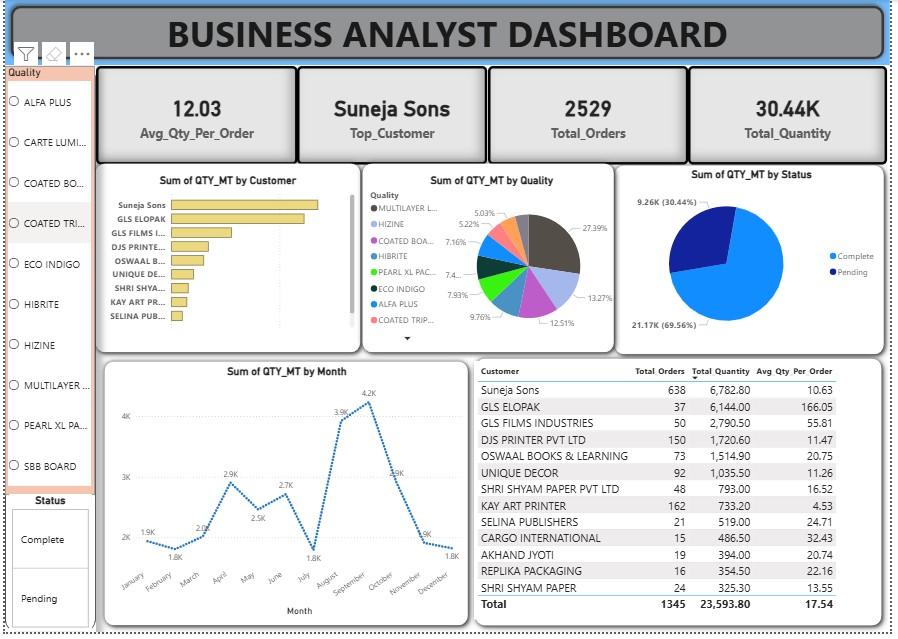

Layout of this report page (visuals, bound fields, positions):
{"tool":"powerbi","page":{"name":"#Dashboard","canvas":[1400,1000],"ordinal":0},"visuals":[{"type":"shape","box":[0,0,1400,102.8],"z":0},{"type":"card","fields":{"Values":["new_file suneja_sons.Avg_Qty_Per_Order"]},"box":[143.5,104.6,319,155.9],"z":1000},{"type":"card","fields":{"Values":["new_file suneja_sons.Top_Customer"]},"box":[462.5,104.6,301.3,155.9],"z":2000},{"type":"card","fields":{"Values":["new_file suneja_sons.Total_Orders"]},"box":[763.8,104.6,317.2,155.9],"z":3000},{"type":"card","fields":{"Values":["new_file suneja_sons.Total_Quantity"]},"box":[1081,104.6,315.4,155.9],"z":4000},{"type":"shape","box":[132.9,248.1,439.5,319],"z":5000},{"type":"clusteredBarChart","fields":{"Category":["new_file suneja_sons.Customer"],"Y":["Sum(new_file suneja_sons.QTY_MT)"]},"box":[147.1,274.7,411.1,272.9],"z":6000},{"type":"shape","box":[953.4,251.6,446.6,319],"z":7000},{"type":"shape","box":[554.7,248.1,418.2,319],"z":8000},{"type":"pieChart","fields":{"Category":["new_file suneja_sons.Quality"],"Y":["Sum(new_file suneja_sons.QTY_MT)"]},"box":[572.4,274.7,395.2,272.9],"z":9000},{"type":"pieChart","fields":{"Category":["new_file suneja_sons.Status"],"Y":["Sum(new_file suneja_sons.QTY_MT)"]},"box":[972.9,265.8,416.5,283.5],"z":10000},{"type":"shape","box":[0,104.6,143.5,894.9],"z":11000},{"type":"listSlicer","fields":{"Values":["new_file suneja_sons.Quality"]},"box":[0,104.6,141.8,678.7],"z":12000},{"type":"advancedSlicerVisual","fields":{"Values":["new_file suneja_sons.Status"]},"box":[7.1,781.5,131.1,218],"z":13000},{"type":"shape","box":[147.1,561.8,595.4,437.7],"z":14000},{"type":"lineChart","fields":{"Category":["new_file suneja_sons.Po_Placing_Date.Variation.Date Hierarchy.Month"],"Y":["Sum(new_file suneja_sons.QTY_MT)"]},"box":[163,577.5,566.5,401.9],"z":15000},{"type":"shape","box":[733.7,556.5,662.8,443],"z":16000},{"type":"tableEx","fields":{"Values":["new_file suneja_sons.Customer","new_file suneja_sons.Total_Orders","new_file suneja_sons.Total_Quantity","new_file suneja_sons.Avg_Qty_Per_Order"]},"box":[742.5,570.6,630.9,409.4],"z":16001}]}

Visuals, with their boxes in screenshot pixels (x1, y1, x2, y2), scaled from the page's 1400x1000 canvas onto the 898x639 screenshot:
shape: box=[0, 0, 897, 66]
card - new_file suneja_sons.Avg_Qty_Per_Order: box=[92, 67, 297, 166]
card - new_file suneja_sons.Top_Customer: box=[297, 67, 490, 166]
card - new_file suneja_sons.Total_Orders: box=[490, 67, 693, 166]
card - new_file suneja_sons.Total_Quantity: box=[693, 67, 896, 166]
shape: box=[85, 159, 367, 362]
clusteredBarChart - new_file suneja_sons.Customer x Sum(new_file suneja_sons.QTY_MT): box=[94, 176, 358, 350]
shape: box=[612, 161, 897, 365]
shape: box=[356, 159, 624, 362]
pieChart - new_file suneja_sons.Quality x Sum(new_file suneja_sons.QTY_MT): box=[367, 176, 621, 350]
pieChart - new_file suneja_sons.Status x Sum(new_file suneja_sons.QTY_MT): box=[624, 170, 891, 351]
shape: box=[0, 67, 92, 638]
listSlicer - new_file suneja_sons.Quality: box=[0, 67, 91, 501]
advancedSlicerVisual - new_file suneja_sons.Status: box=[5, 499, 89, 638]
shape: box=[94, 359, 476, 638]
lineChart - new_file suneja_sons.Po_Placing_Date.Variation.Date Hierarchy.Month x Sum(new_file suneja_sons.QTY_MT): box=[105, 369, 468, 626]
shape: box=[471, 356, 896, 638]
tableEx - new_file suneja_sons.Customer x new_file suneja_sons.Total_Orders: box=[476, 365, 881, 626]
